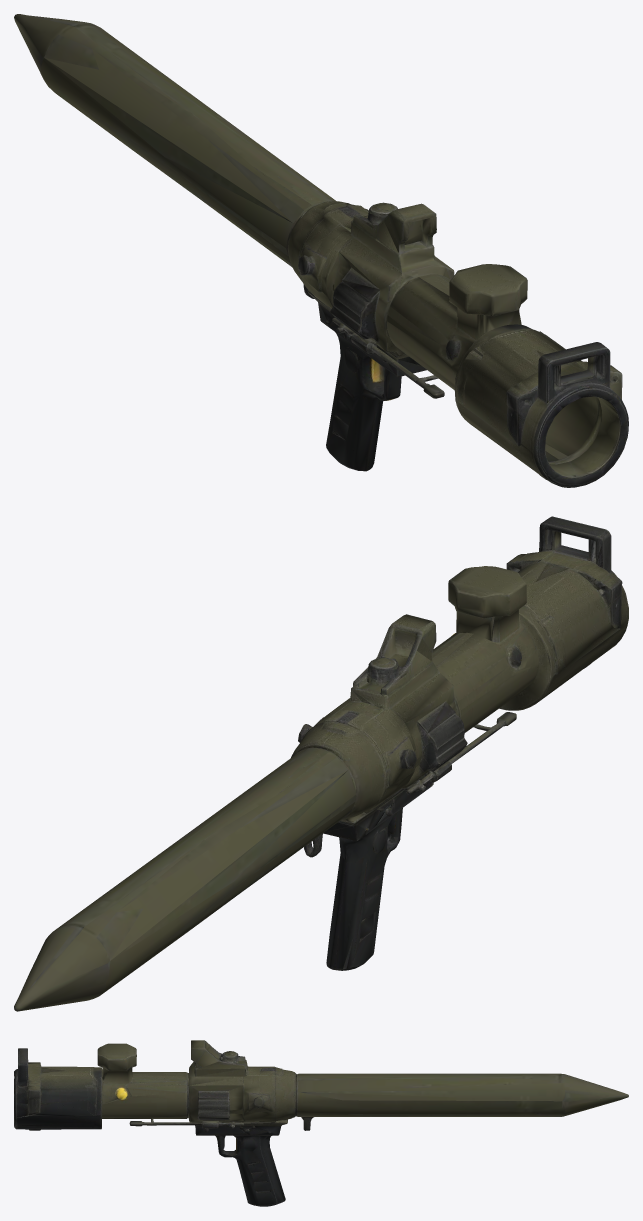
The model's file is ln_lotus.glb.
3 renders of one model, top to bottom at view 1: azimuth 30°, elevation 25°; view 2: azimuth 150°, elevation 25°; view 3: azimuth 270°, elevation 25°, orthographic. The views are drawn at different scales.
Parts seen in each view (by area): view 1: ln_lotus; view 2: ln_lotus; view 3: ln_lotus.
Boxes of the visible parts, left/top/right/bottom form: ln_lotus: left=14, top=14, right=628, bottom=487; ln_lotus: left=14, top=516, right=628, bottom=1011; ln_lotus: left=14, top=1040, right=628, bottom=1206.
Bounding box in the file's own units: 0.1091 × 0.2759 × 0.95.
Materials: 1 (1 with a texture image).
